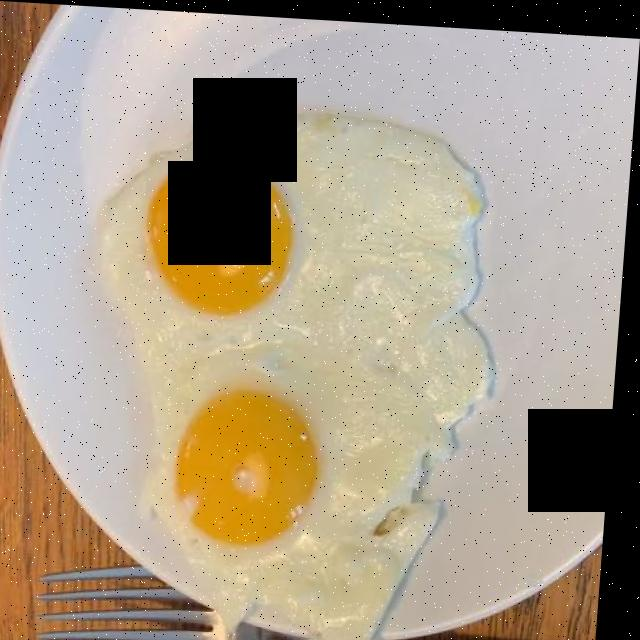egg: (98, 117, 486, 614)
